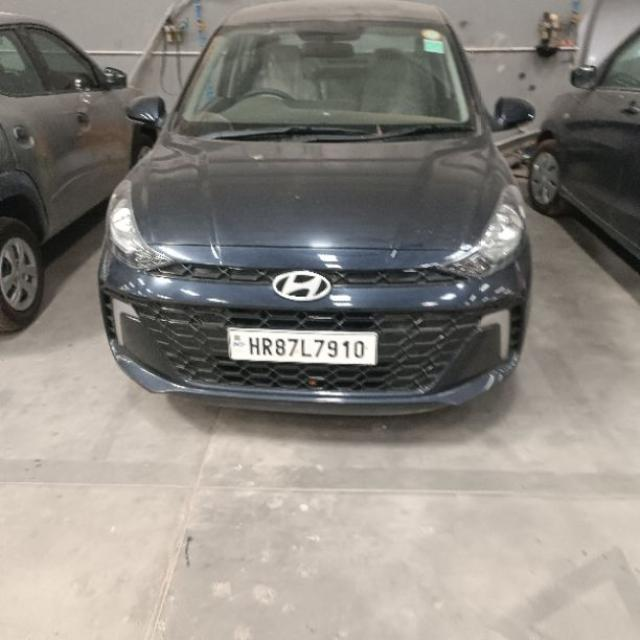license_plate: (225, 325, 378, 366)
